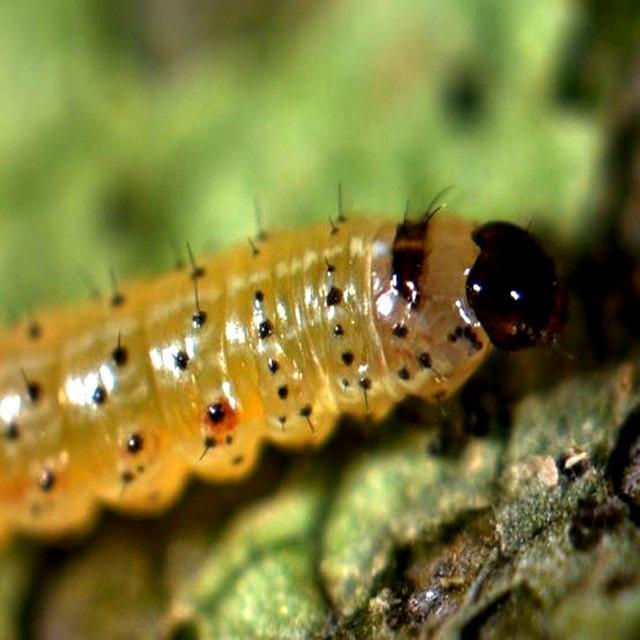gusano_cogollero: (0, 188, 577, 565)
